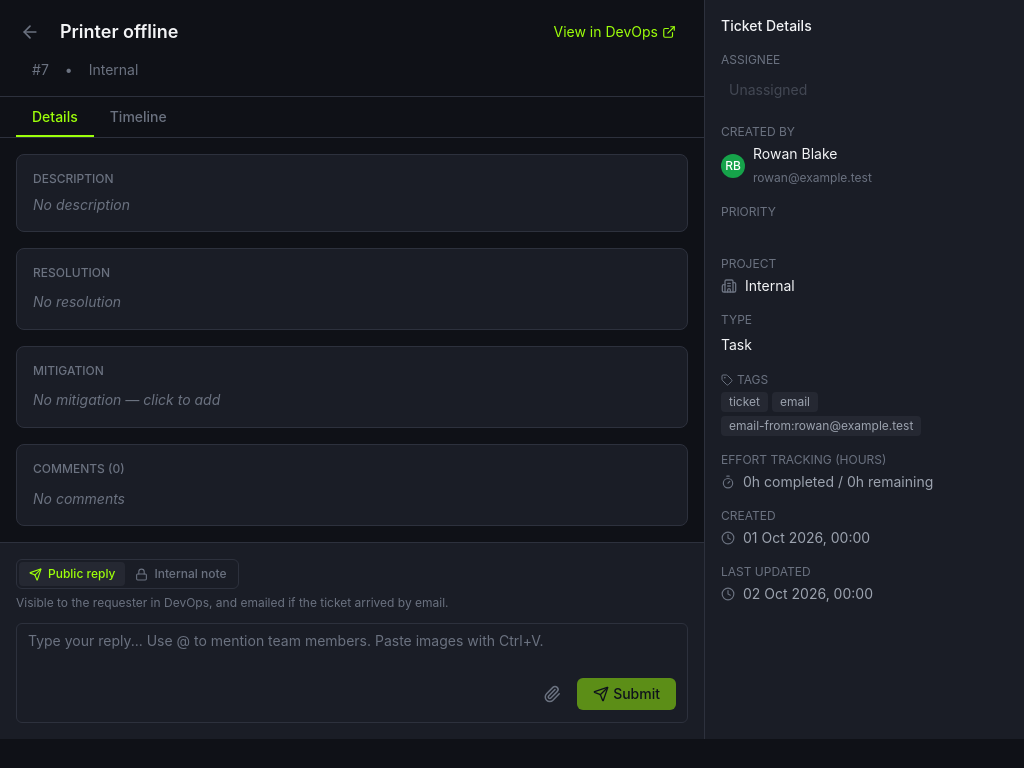
Test case: timeline attribution of an emailed ticket › credits the creation to the sender, not the token holder
This screenshot has width=1024, height=768.
Step 1. Click the button "Timeline" → {"x": 138, "y": 117}, box x1=94 y1=97 x2=183 y2=137
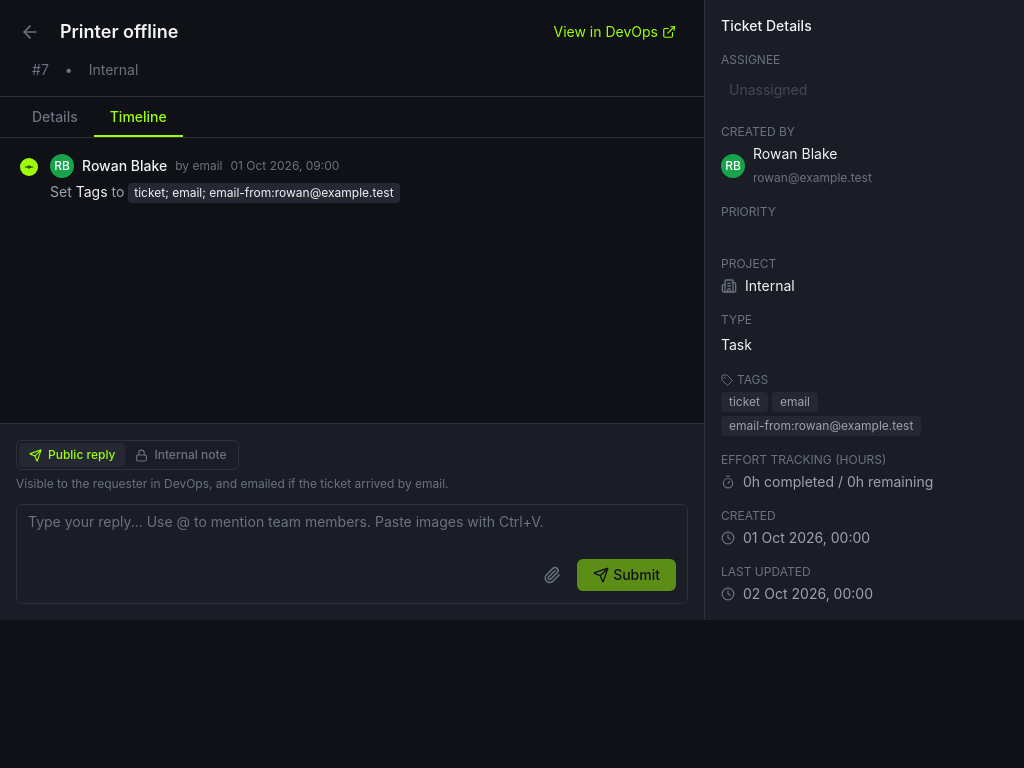
Expected: the text "Rowan Blake" in the row of "01 Oct 2026, 09:00" is shown, x1=82 y1=157 x2=167 y2=174
Expected: the text "by email" is shown, x1=175 y1=158 x2=222 y2=174
